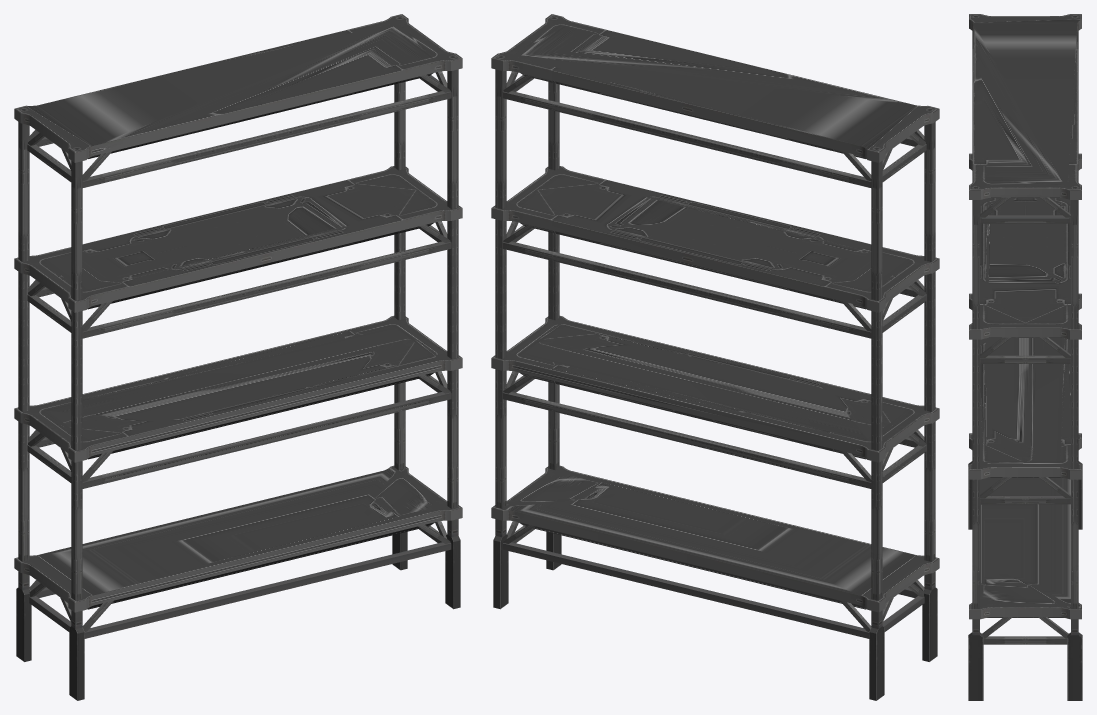
Rendered from scifi-shelves-widetall.glb.
The picture shows the model from 3 angles, left to right: view 1: azimuth 30°, elevation 25°; view 2: azimuth 150°, elevation 25°; view 3: azimuth 270°, elevation 25°; orthographic projection. The views are drawn at different scales.
Visible parts, largest first — view 1: Prop_Shelves_WideTall; view 2: Prop_Shelves_WideTall; view 3: Prop_Shelves_WideTall.
Boxes of the visible parts, x1,y1,x2,y2 form: Prop_Shelves_WideTall: (14,14,462,700); Prop_Shelves_WideTall: (491,14,939,700); Prop_Shelves_WideTall: (968,14,1082,700).
Bounding box in the file's own units: 1.98 × 2.67 × 0.5407.
1 material, 1 textured.
